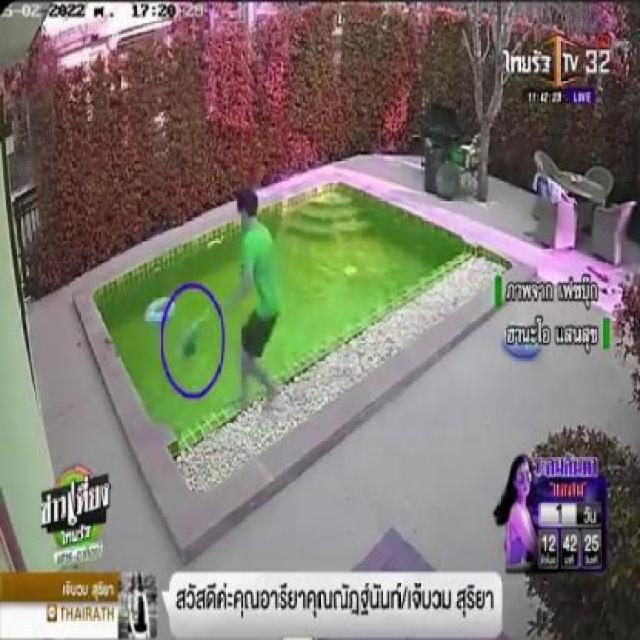drowning: (174, 318, 208, 365)
